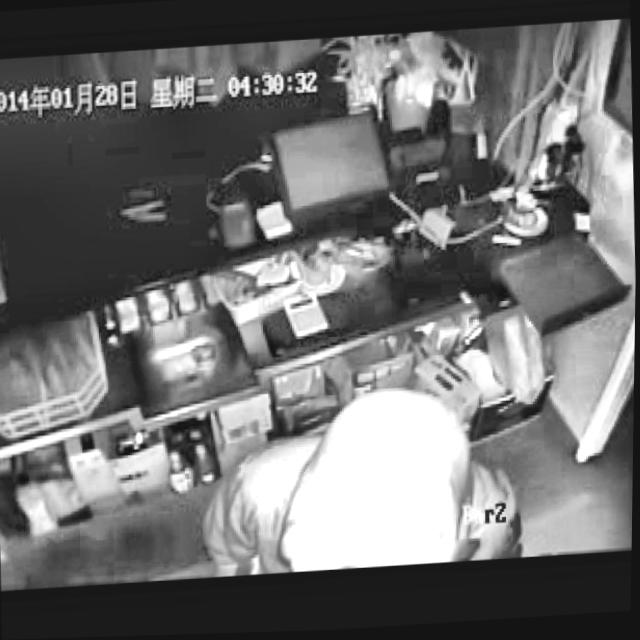burglary: (193, 383, 531, 578)
